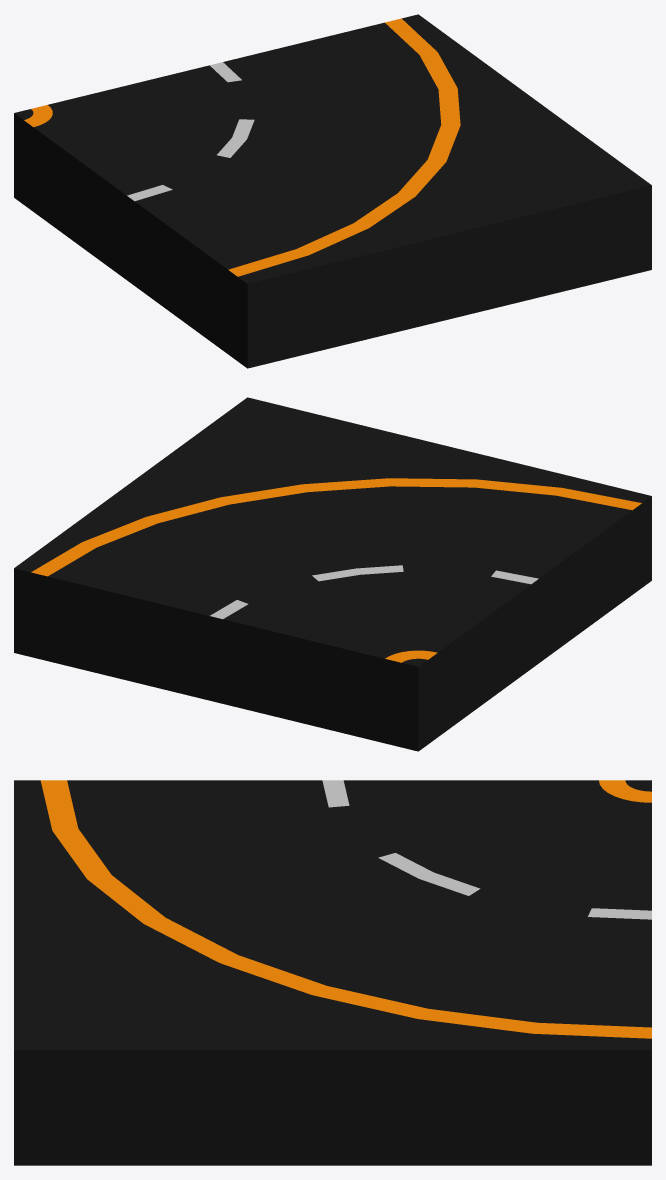
Rendered from corner_round_road.obj.
The picture shows the model from 3 angles, top to bottom: view 1: azimuth 30°, elevation 25°; view 2: azimuth 150°, elevation 25°; view 3: azimuth 270°, elevation 25°; orthographic projection. The views are drawn at different scales.
Visible parts, largest first — view 1: Cube_Cube.004; view 2: Cube_Cube.004; view 3: Cube_Cube.004.
Boxes of the visible parts, left/top/right/bottom form: Cube_Cube.004: left=14, top=14, right=651, bottom=368; Cube_Cube.004: left=14, top=397, right=651, bottom=751; Cube_Cube.004: left=14, top=780, right=651, bottom=1165.
Bounding box in the file's own units: 1 × 0.2 × 1.
